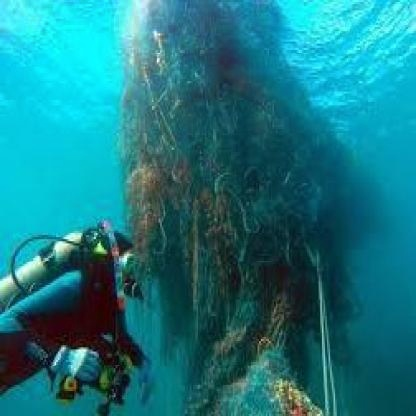net: (121, 2, 340, 379)
